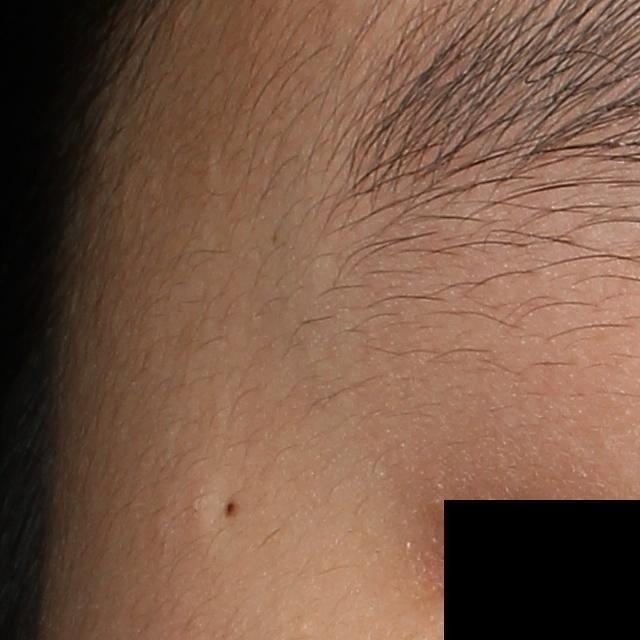nevus: (221, 497, 243, 523)
